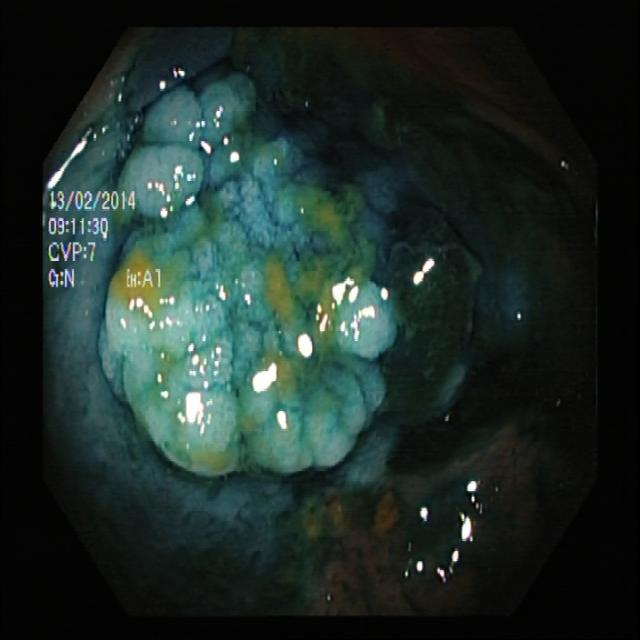dyed-lifted-polyps: (82, 47, 460, 497)
